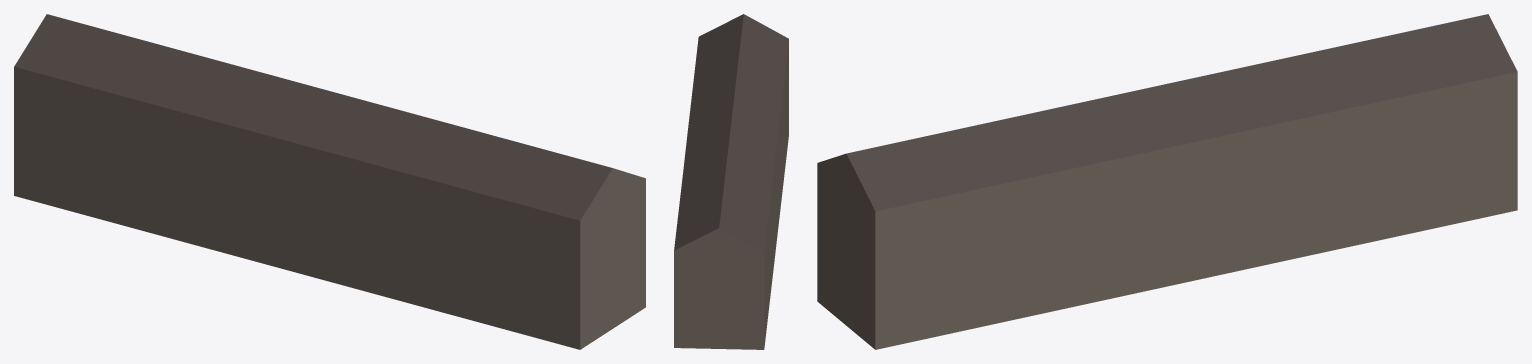
The picture shows the model from 3 angles, left to right: view 1: azimuth 30°, elevation 25°; view 2: azimuth 150°, elevation 25°; view 3: azimuth 270°, elevation 25°; orthographic projection. The views are drawn at different scales.
Parts seen in each view (by area): view 1: HP-w1198846690; view 2: HP-w1198846690; view 3: HP-w1198846690.
Boxes of the visible parts, left/top/right/bottom form: HP-w1198846690: left=14, top=14, right=645, bottom=349; HP-w1198846690: left=674, top=14, right=788, bottom=349; HP-w1198846690: left=817, top=14, right=1517, bottom=349.
Bounding box in the file's own units: 17.47 × 7.46 × 27.5.
